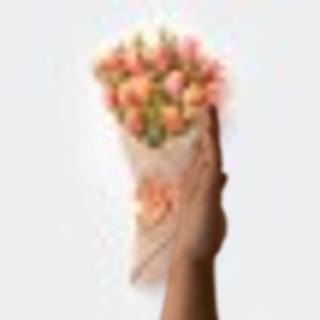RIGHT: (164, 93, 238, 270)
